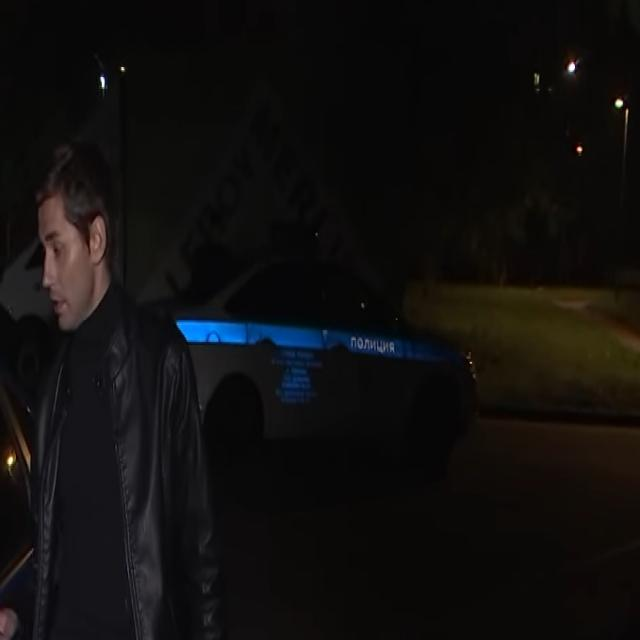police car: (132, 223, 482, 484)
